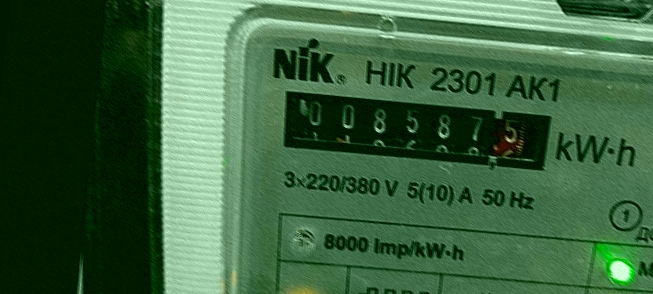0: (304, 97, 324, 128), (338, 101, 358, 131)
5: (501, 117, 521, 147), (402, 107, 422, 136)
7: (466, 112, 485, 144)
8: (434, 110, 453, 141), (370, 106, 389, 135)
screen: (261, 73, 570, 186)
